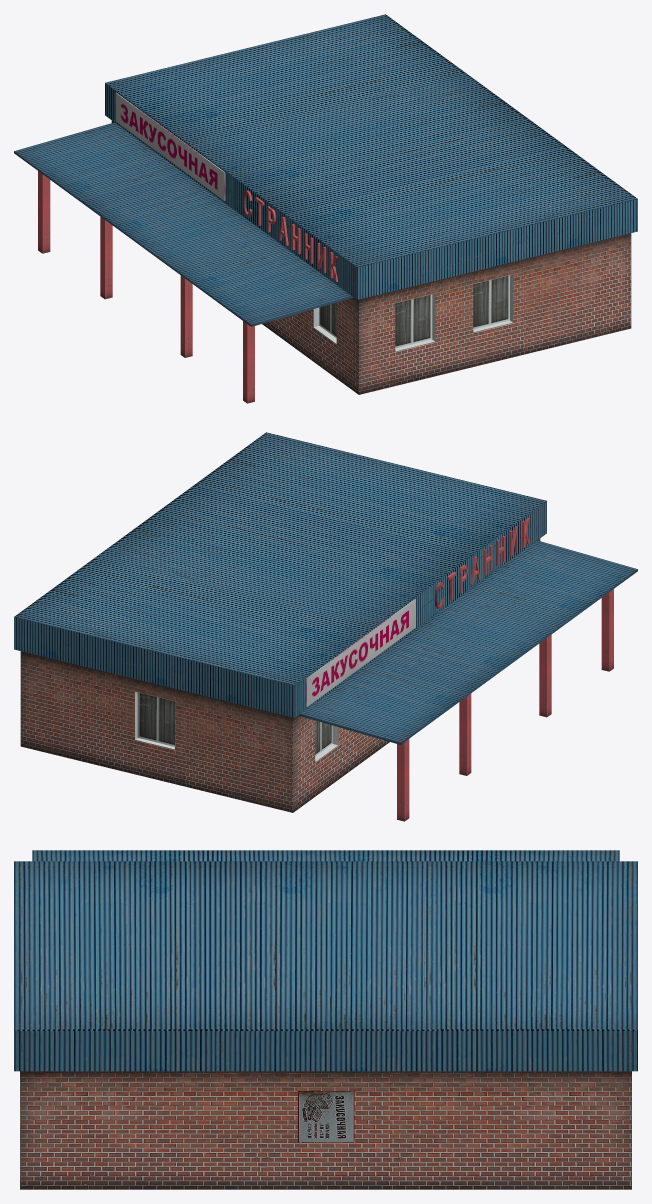
File: r402_abatskoe_zakusochnaya.FBX
3 views of the same model, one above another, from view 1: azimuth 30°, elevation 25°; view 2: azimuth 150°, elevation 25°; view 3: azimuth 270°, elevation 25° (orthographic). The views are drawn at different scales.
Parts seen in each view (by area): view 1: r402_abatskoe_zakusochnaya; view 2: r402_abatskoe_zakusochnaya; view 3: r402_abatskoe_zakusochnaya.
Part boxes in pixels (<box>): r402_abatskoe_zakusochnaya: <box>14,14,637,403</box>; r402_abatskoe_zakusochnaya: <box>14,432,637,821</box>; r402_abatskoe_zakusochnaya: <box>14,850,637,1189</box>.
Bounding box in the file's own units: 974 × 1122 × 320.
